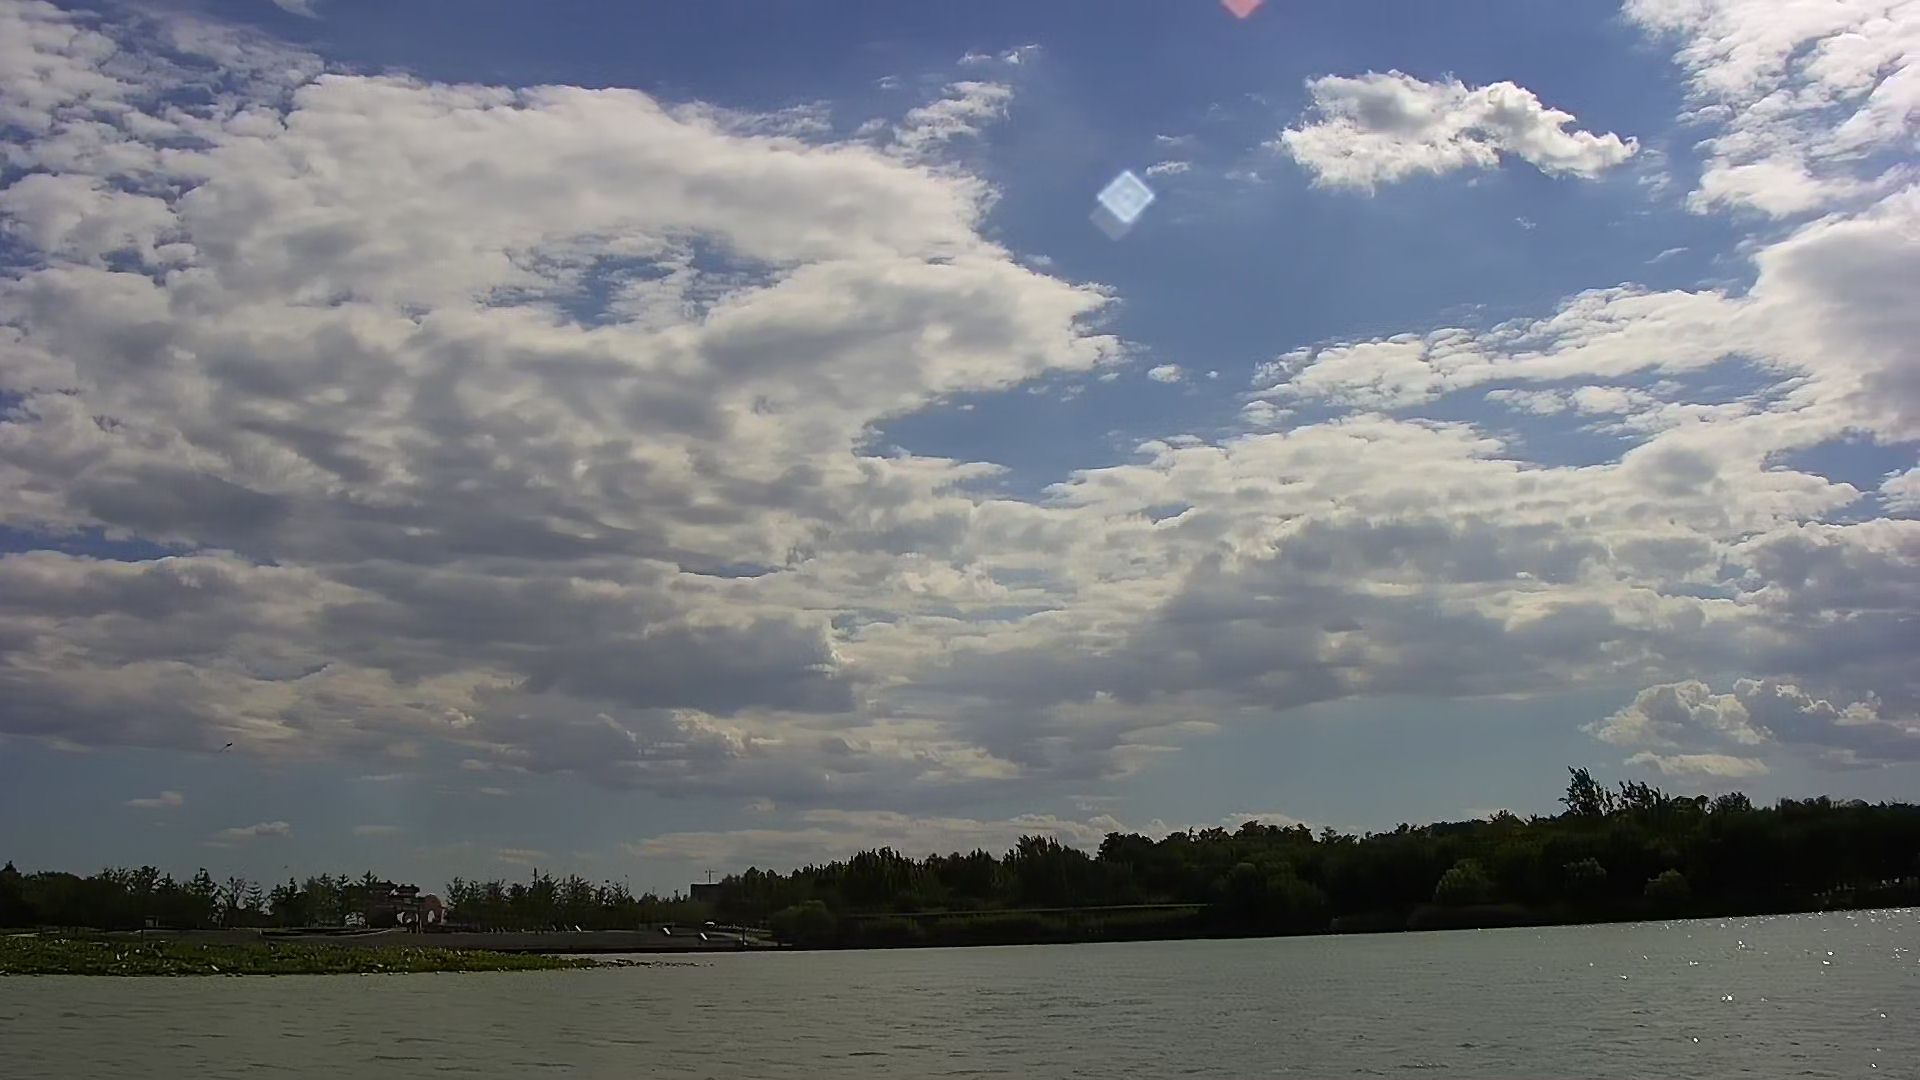harbor: (472, 926, 785, 955)
